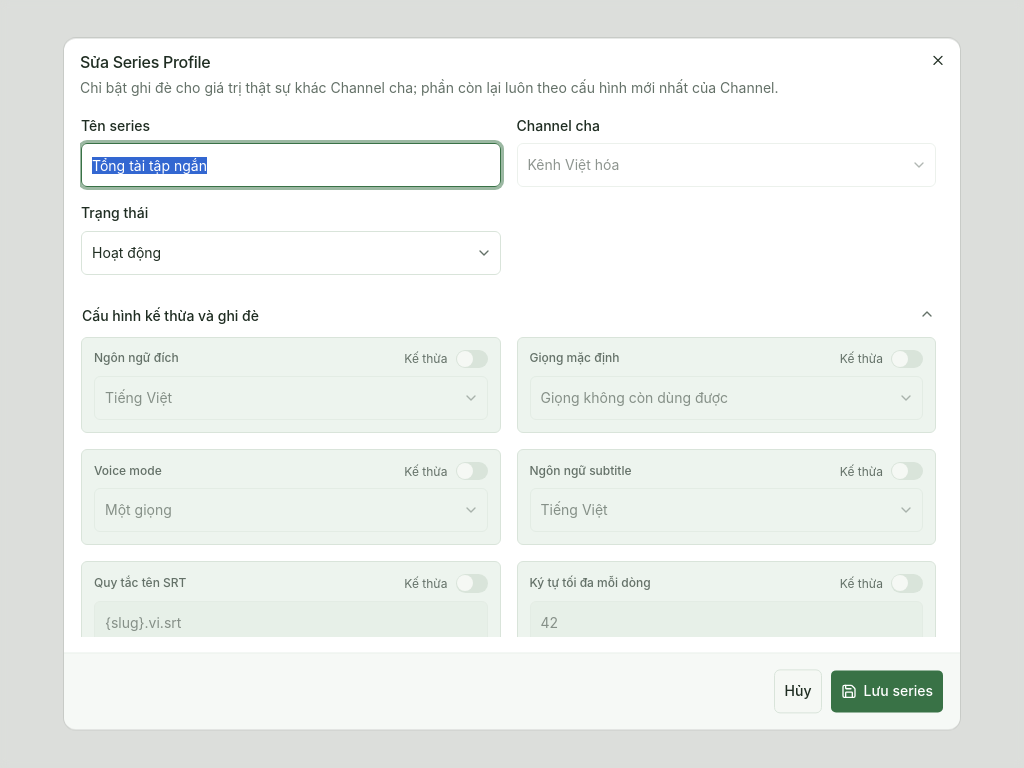
Test case: SeriesProfileDialog › blocks submitting an overridden default voice left blank instead of silently inheriting
The image size is (1024, 768).
Click the switch named "Ghi đè Giọng mặc định" at [907, 359], box [891,350,923,368]
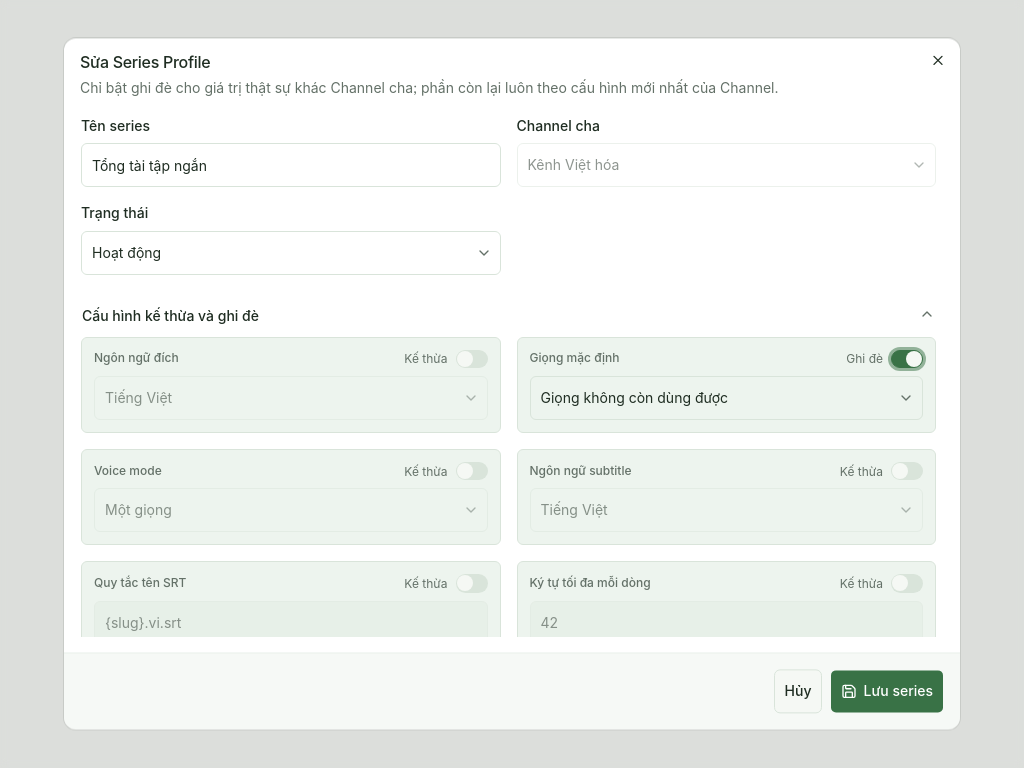
Now the dropdown named "Giọng mặc định" is enabled
Click the dropdown named "Giọng mặc định" at [726, 398], box [530,376,923,420]
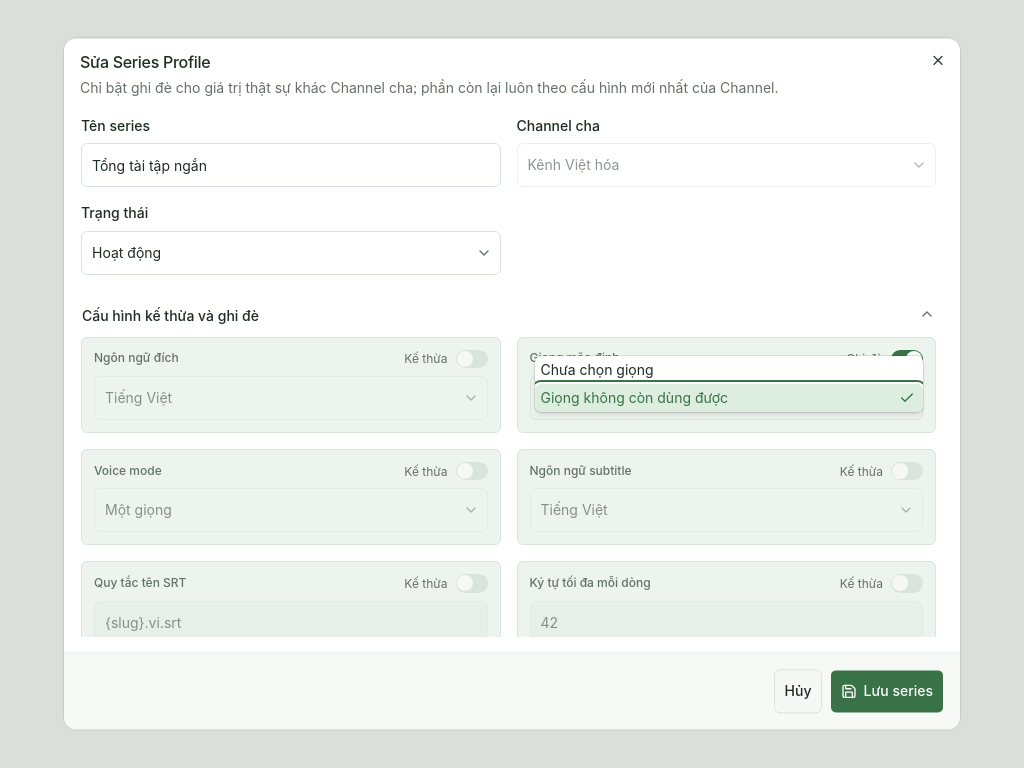
Click the option "Chưa chọn giọng" at [597, 370], box [540,361,654,378]
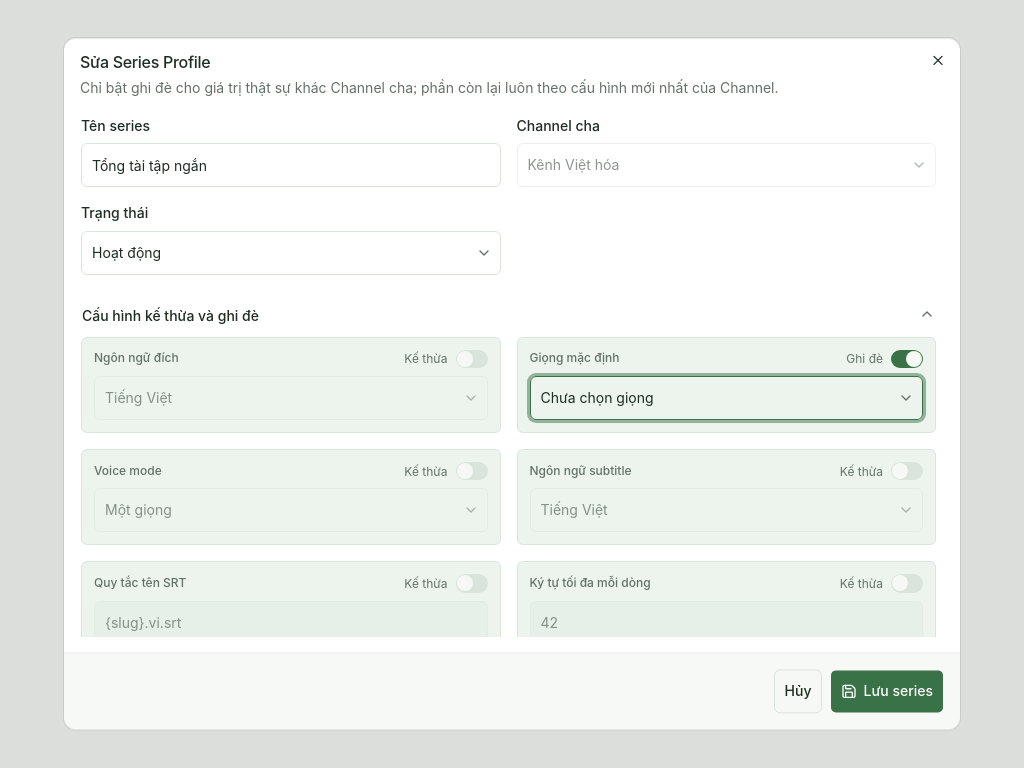
Click the button "Lưu series" at [887, 692], box [830,670,944,714]
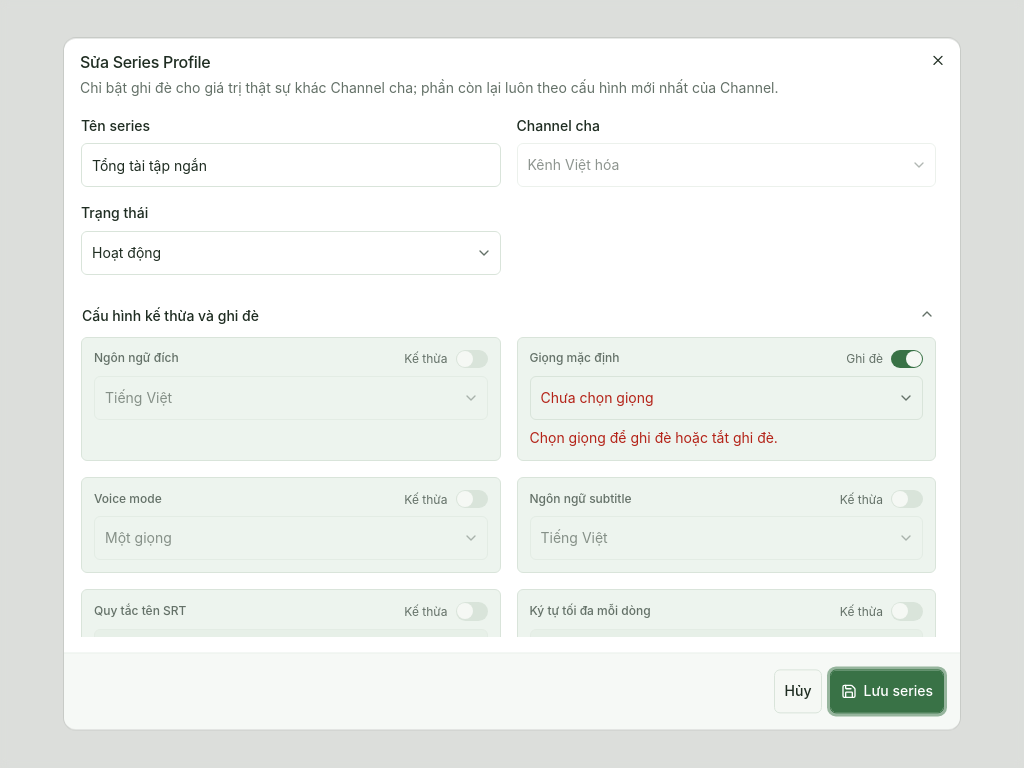
Now the text "Chọn giọng để ghi đè hoặc tắt ghi đè." is shown, box [530,429,778,446]
